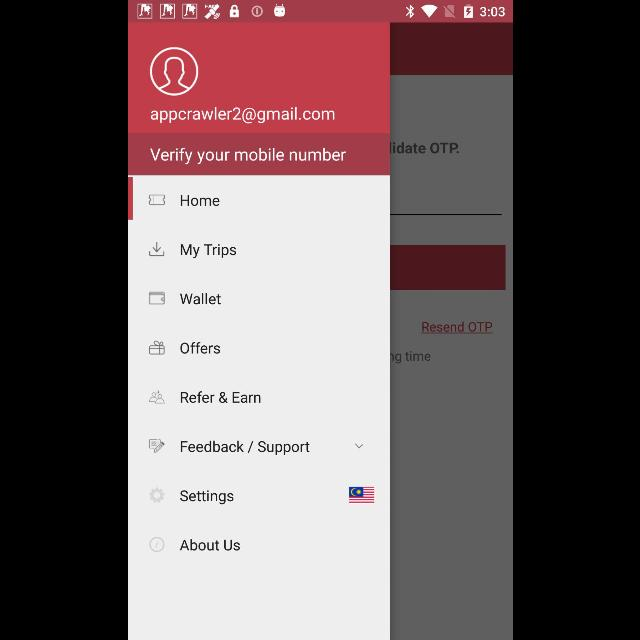icon: (148, 48, 198, 96), (148, 536, 164, 552), (148, 488, 164, 502), (148, 439, 164, 453), (148, 390, 164, 404), (148, 341, 164, 355), (148, 242, 164, 256), (148, 292, 164, 304), (148, 194, 164, 206), (355, 443, 363, 449)
image: (348, 486, 374, 504)
panel: (127, 22, 389, 640)
text: (149, 147, 345, 165), (150, 106, 334, 124), (180, 440, 308, 456), (180, 391, 260, 404), (180, 244, 236, 258), (179, 490, 233, 504), (178, 539, 240, 551), (180, 293, 220, 305), (180, 342, 220, 354), (180, 196, 218, 207)
uppertaskbar: (128, 1, 512, 23)
